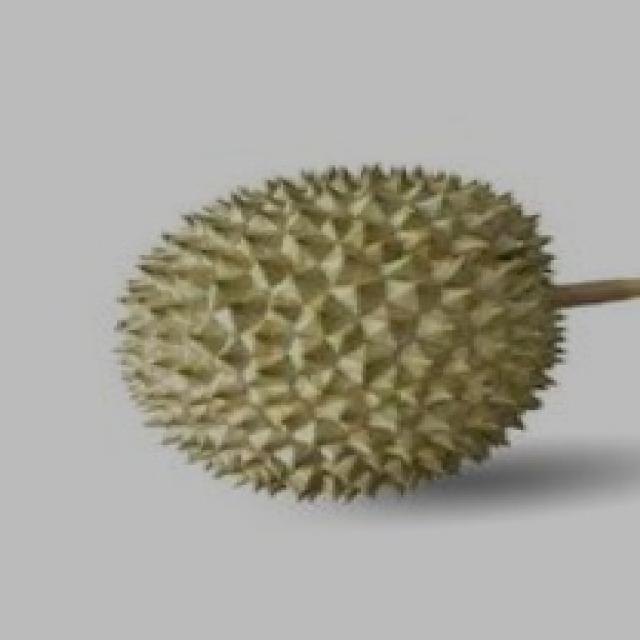fruit: (68, 180, 428, 570), (292, 130, 610, 555)
